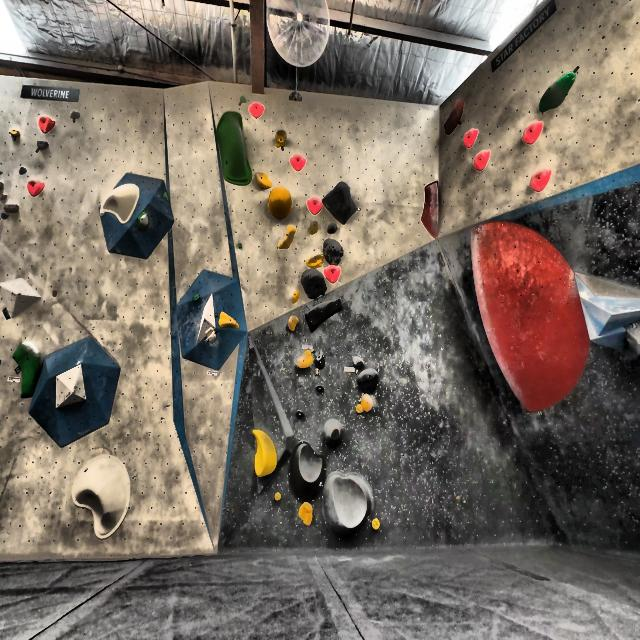Hold: (469, 220, 592, 418), (72, 447, 137, 543), (320, 471, 374, 536), (213, 111, 252, 187), (288, 442, 328, 497), (14, 337, 42, 411), (534, 70, 578, 117), (95, 180, 137, 223), (419, 172, 441, 245), (325, 183, 364, 223), (252, 425, 279, 480), (306, 295, 343, 331), (442, 97, 467, 137), (302, 266, 330, 297), (267, 186, 293, 218), (526, 168, 552, 199), (352, 367, 382, 393), (275, 223, 299, 250), (320, 419, 344, 446), (219, 309, 243, 333), (321, 241, 347, 263), (26, 174, 46, 202), (522, 121, 542, 148), (468, 150, 491, 172), (461, 127, 480, 150), (297, 500, 312, 528), (35, 112, 56, 132), (306, 193, 324, 216), (297, 348, 314, 372), (288, 152, 307, 172), (272, 128, 290, 149), (256, 170, 273, 190), (324, 264, 341, 284), (134, 209, 150, 229), (204, 327, 220, 347), (3, 202, 21, 218), (286, 312, 300, 332), (248, 104, 267, 118), (304, 256, 325, 268), (360, 395, 374, 412), (37, 139, 51, 155), (286, 89, 302, 102), (308, 220, 322, 234), (9, 126, 21, 142), (290, 287, 300, 306), (351, 355, 364, 369), (316, 351, 328, 366), (71, 106, 82, 122), (162, 186, 172, 203), (192, 288, 201, 305), (313, 382, 323, 396), (372, 521, 383, 533), (18, 162, 27, 175), (297, 407, 305, 421), (275, 490, 282, 503), (239, 95, 247, 104), (238, 241, 243, 249)
